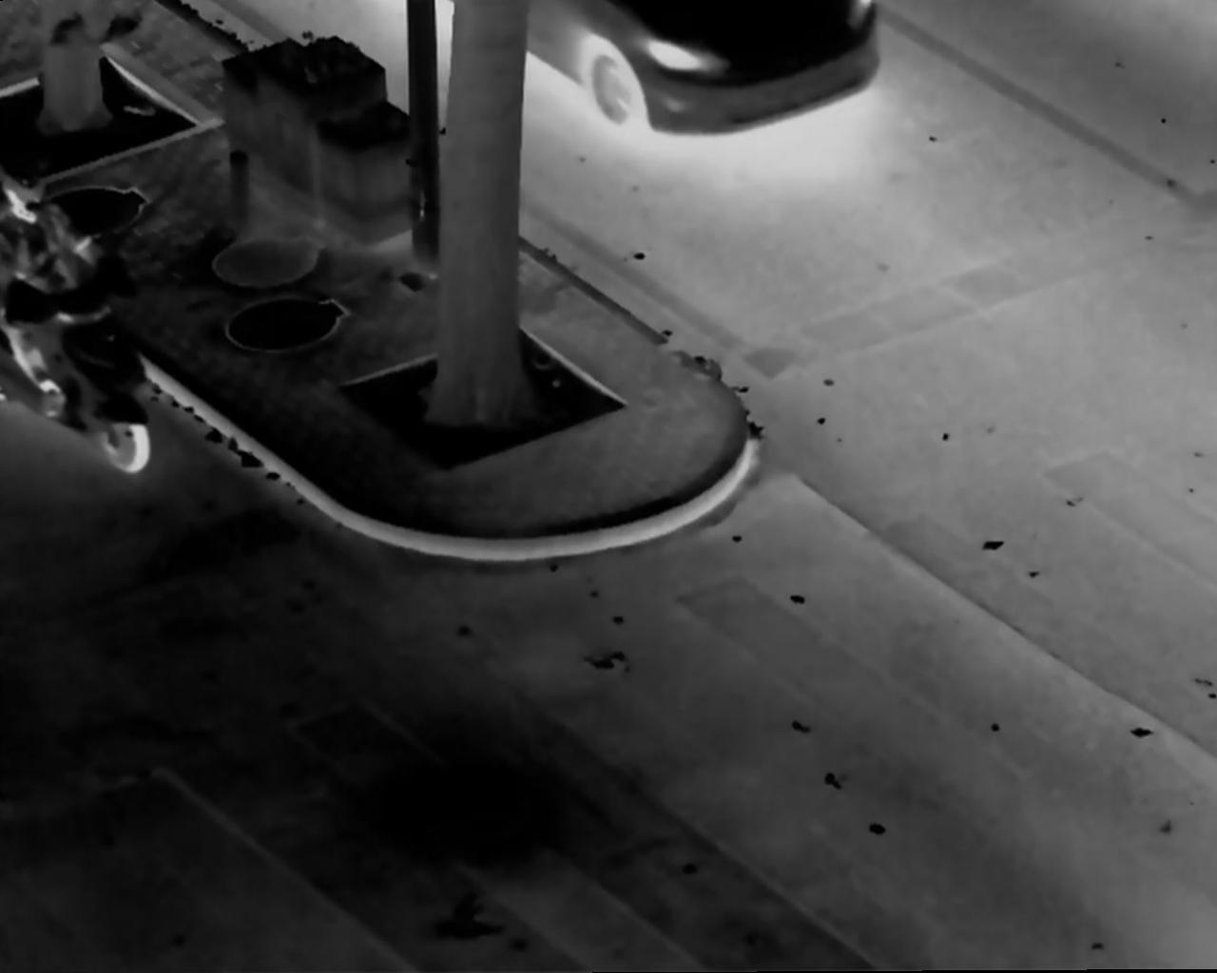person: (6, 167, 74, 403)
